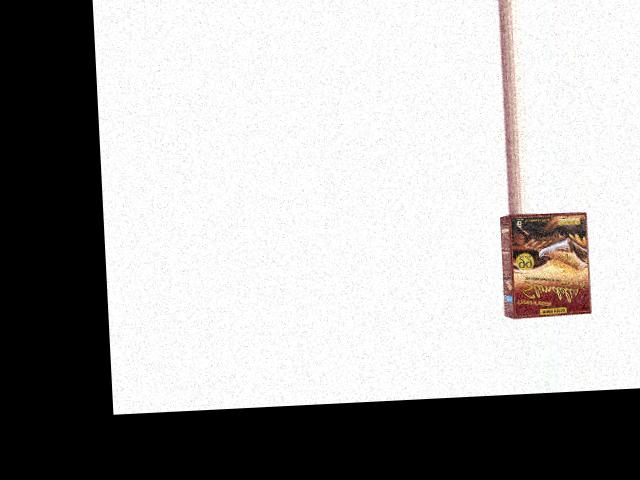chocolate: (494, 209, 601, 321)
